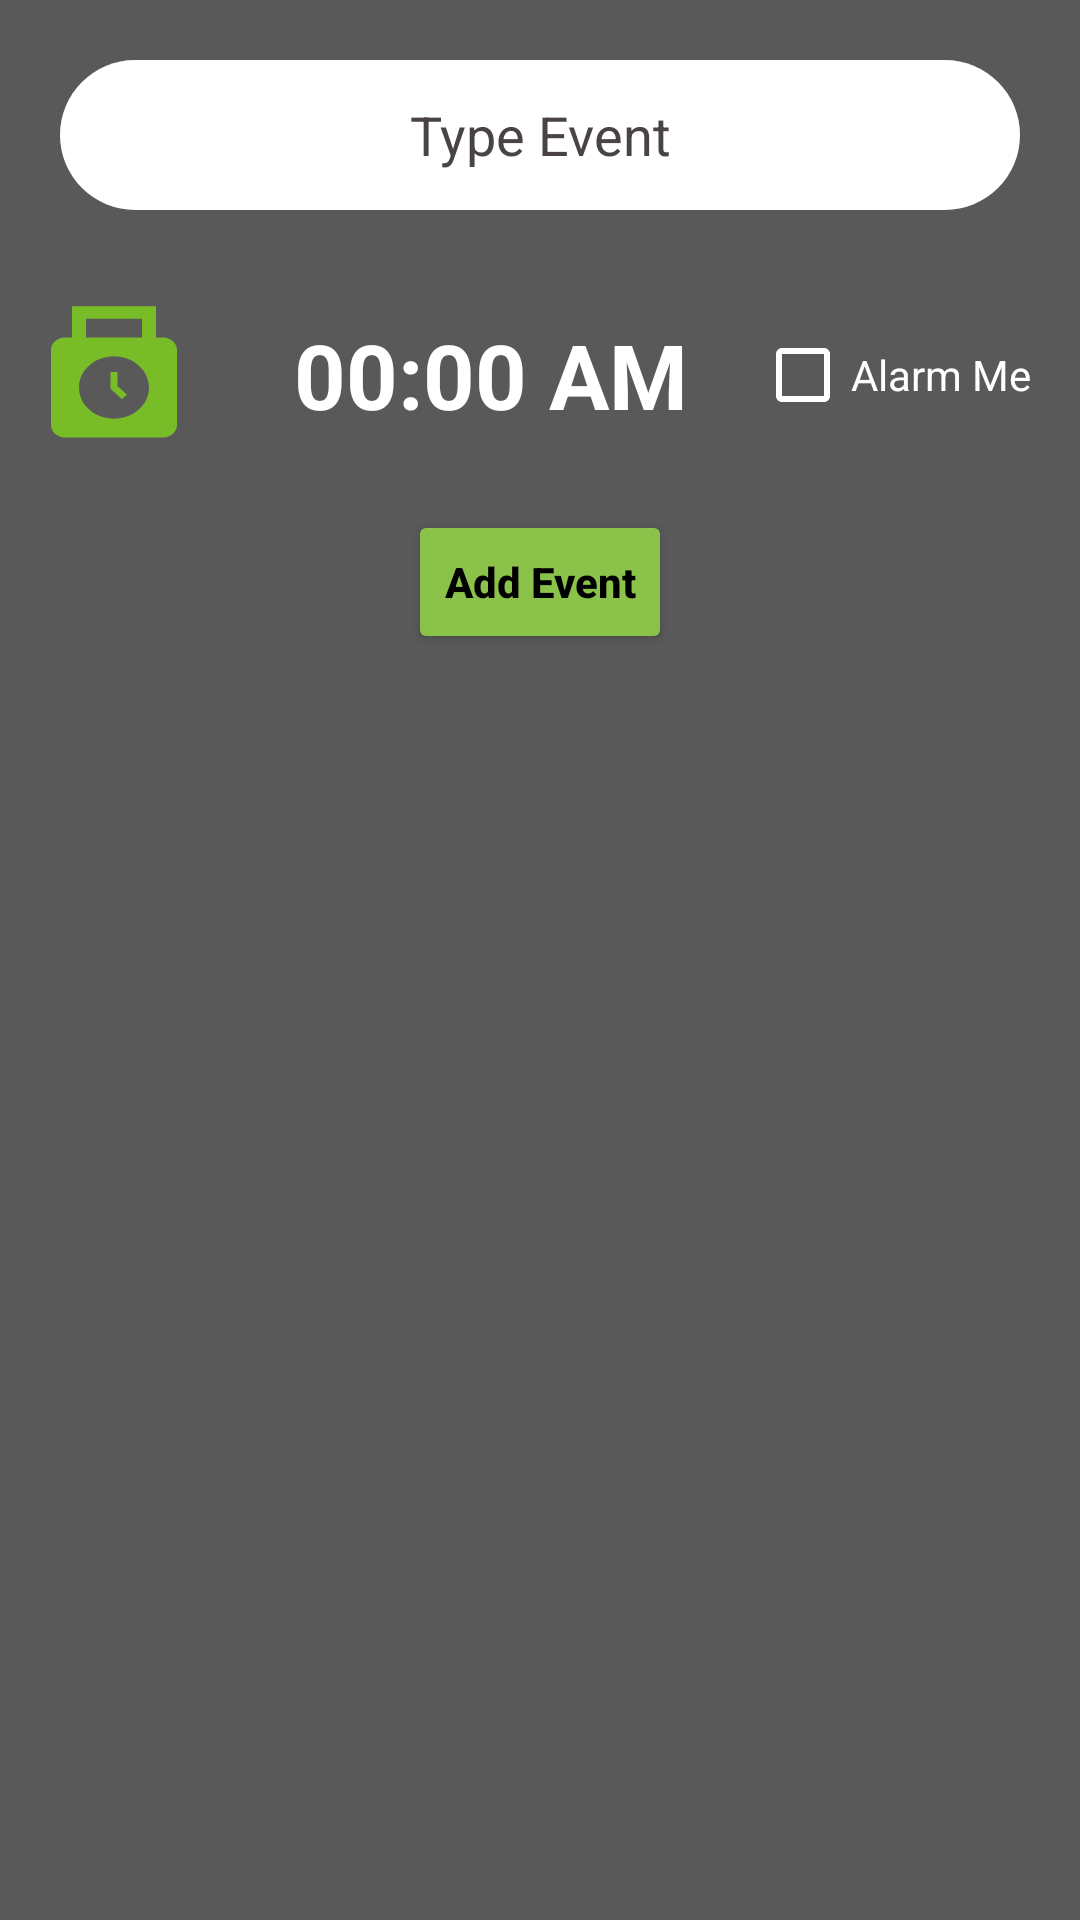

Icons on this 1080w x 1920h Android screen, each with its box as [left=x1, top=y1, right=x2, bottom=y2]:
punch clock: [left=51, top=306, right=177, bottom=438]
